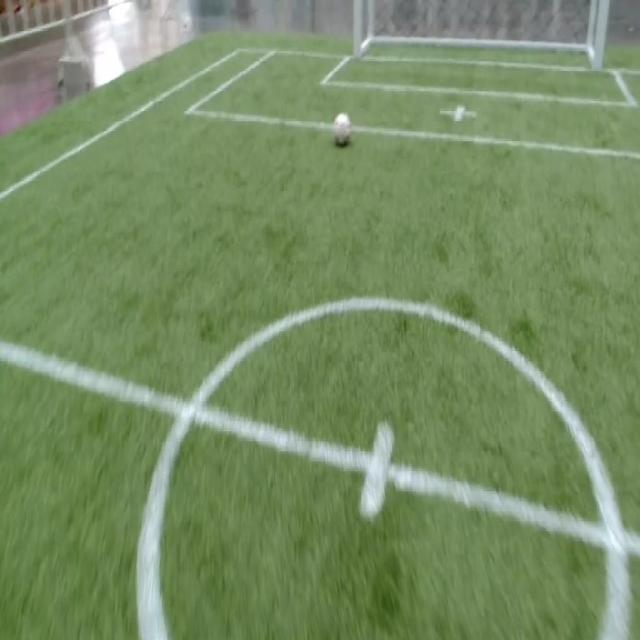ball: (333, 113, 353, 146)
goalpost: (588, 39, 606, 76), (349, 26, 364, 64)
